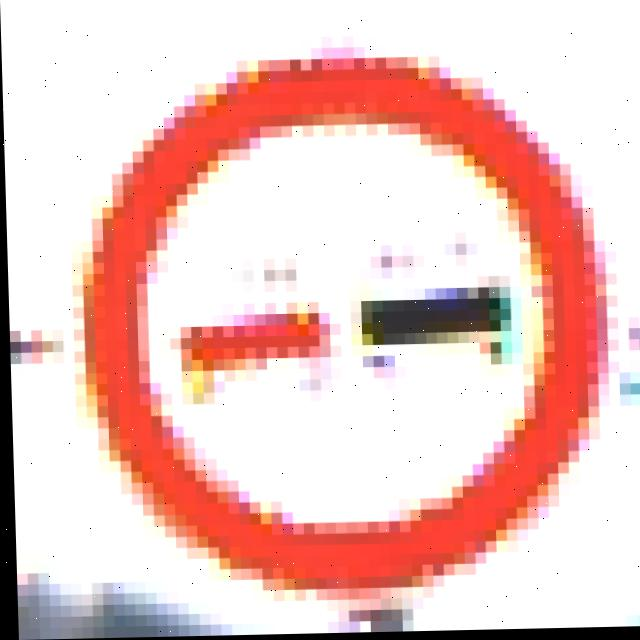no_overtaking: (81, 84, 612, 564)
